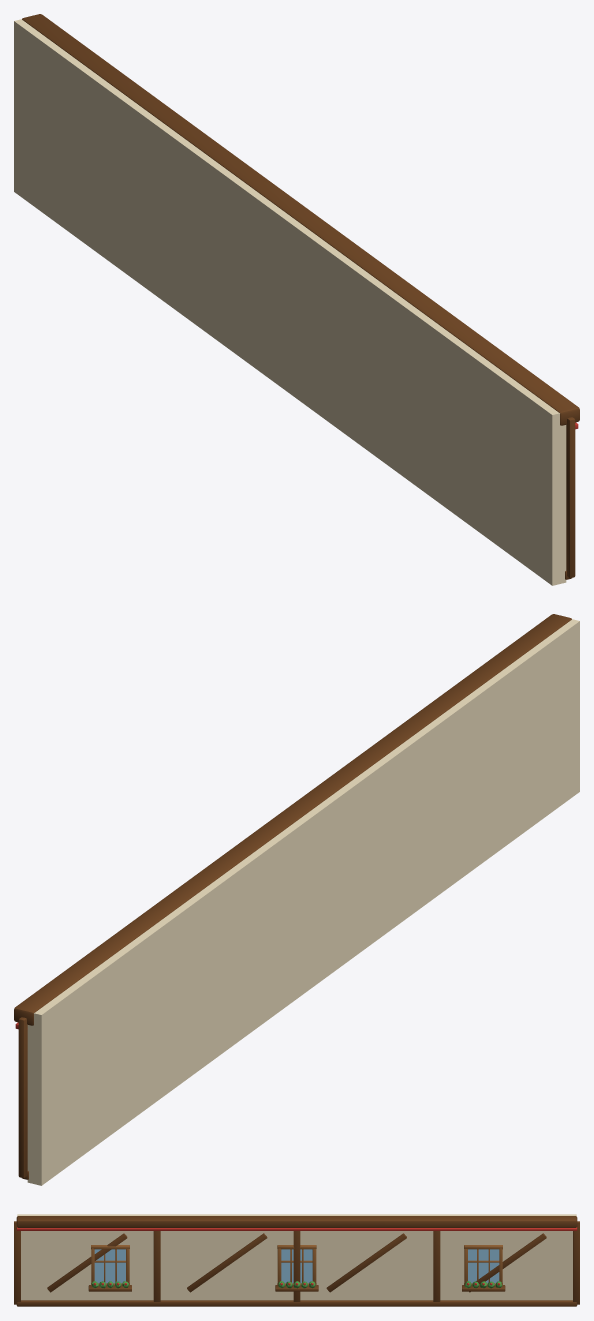
File: WallOrchard.fbx
The picture shows the model from 3 angles, top to bottom: view 1: azimuth 30°, elevation 25°; view 2: azimuth 150°, elevation 25°; view 3: azimuth 270°, elevation 25°; orthographic projection. The views are drawn at different scales.
Visible parts, largest first — view 1: WallOrchard; view 2: WallOrchard; view 3: WallOrchard.
Boxes of the visible parts, <box> form: WallOrchard: <box>14,14,579,585</box>; WallOrchard: <box>14,614,579,1185</box>; WallOrchard: <box>14,1214,579,1306</box>.
Size of the model in its own units: 277 by 1410 by 8100.
